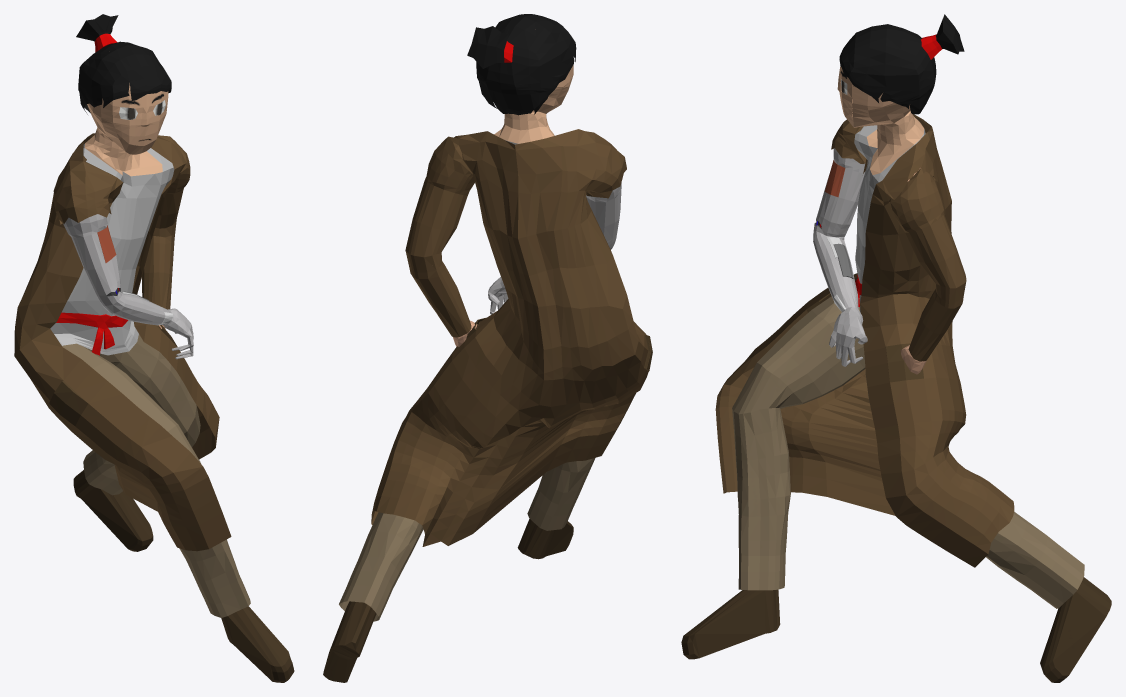
Rendered from One_DR_000007.obj.
3 views of the same model, side by side, from view 1: azimuth 30°, elevation 25°; view 2: azimuth 150°, elevation 25°; view 3: azimuth 270°, elevation 25° (orthographic). The views are drawn at different scales.
Visible parts, largest first — view 1: Hair_Cube.004; view 2: Hair_Cube.004; view 3: Hair_Cube.004.
Boxes of the visible parts, left/top/right/bottom form: Hair_Cube.004: left=14, top=14, right=294, bottom=682; Hair_Cube.004: left=323, top=14, right=652, bottom=682; Hair_Cube.004: left=681, top=14, right=1111, bottom=682.
Bounding box in the file's own units: 1.33 × 3.58 × 2.26.
